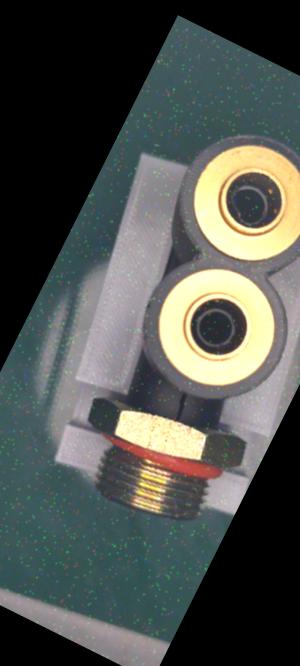craze: (164, 389, 193, 424)
off-centered: (209, 169, 279, 239)
